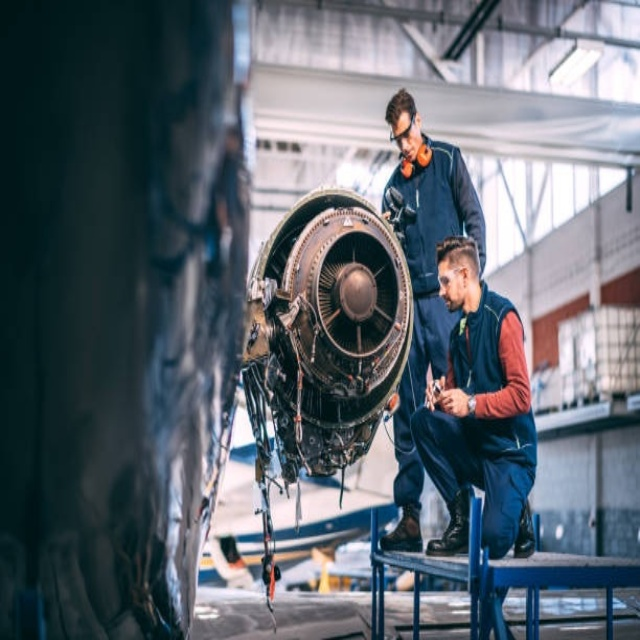Gafas: (390, 112, 415, 143), (438, 267, 466, 288)
Sin_guantes: (440, 386, 471, 418)
Sin_mascara: (439, 289, 455, 312), (402, 145, 418, 164)
